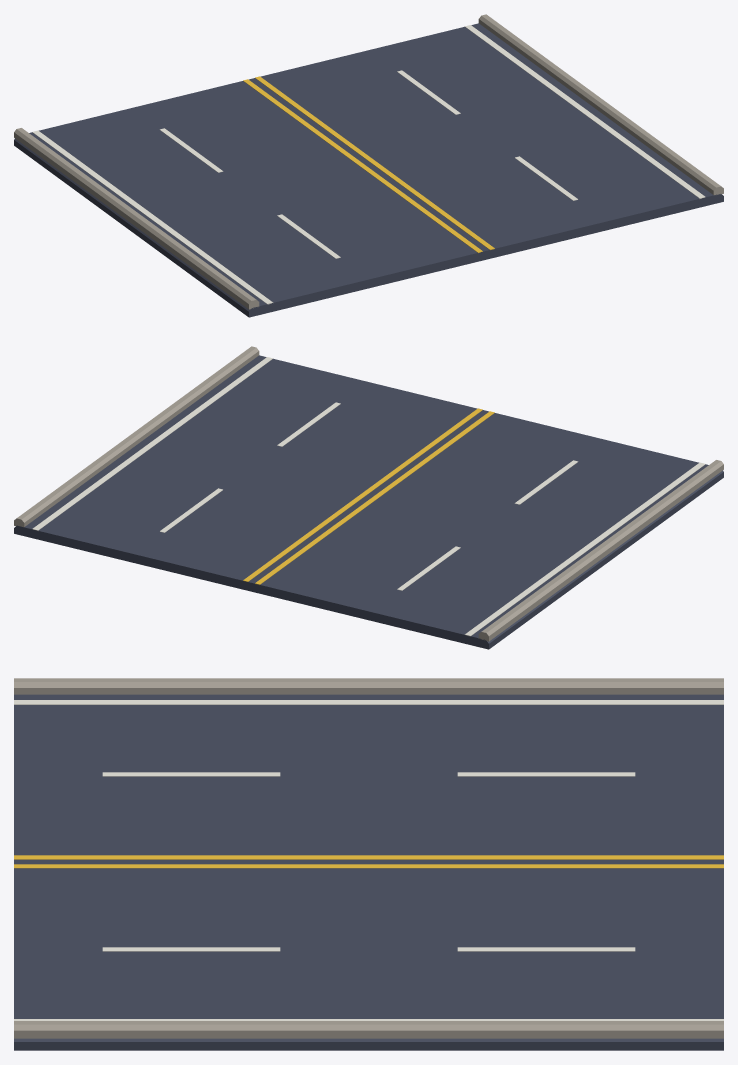
File: RoadHighway.fbx
3 views of the same model, one above another, from view 1: azimuth 30°, elevation 25°; view 2: azimuth 150°, elevation 25°; view 3: azimuth 270°, elevation 25° (orthographic). The views are drawn at different scales.
Parts seen in each view (by area): view 1: RoadHighway_Asphalt, RoadHighway_Curb, RoadHighway_LineWhite, RoadHighway_LineYellow; view 2: RoadHighway_Asphalt, RoadHighway_Curb, RoadHighway_LineWhite, RoadHighway_LineYellow; view 3: RoadHighway_Asphalt, RoadHighway_Curb, RoadHighway_LineWhite, RoadHighway_LineYellow.
Part boxes in pixels (bbox=[...]): RoadHighway_Asphalt: bbox=[14, 23, 723, 317]; RoadHighway_Curb: bbox=[14, 14, 723, 309]; RoadHighway_LineWhite: bbox=[32, 25, 705, 304]; RoadHighway_LineYellow: bbox=[243, 76, 494, 252]; RoadHighway_Asphalt: bbox=[14, 355, 723, 649]; RoadHighway_Curb: bbox=[14, 346, 723, 641]; RoadHighway_LineWhite: bbox=[32, 357, 705, 636]; RoadHighway_LineYellow: bbox=[243, 408, 494, 584]; RoadHighway_Asphalt: bbox=[14, 694, 723, 1050]; RoadHighway_Curb: bbox=[14, 678, 723, 1038]; RoadHighway_LineWhite: bbox=[14, 700, 723, 1020]; RoadHighway_LineYellow: bbox=[14, 855, 723, 868].
Size of the model in its own units: 56 by 1.8 by 48.
